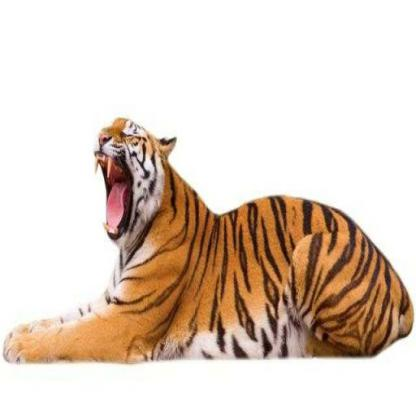Tiger: (0, 107, 415, 375)
